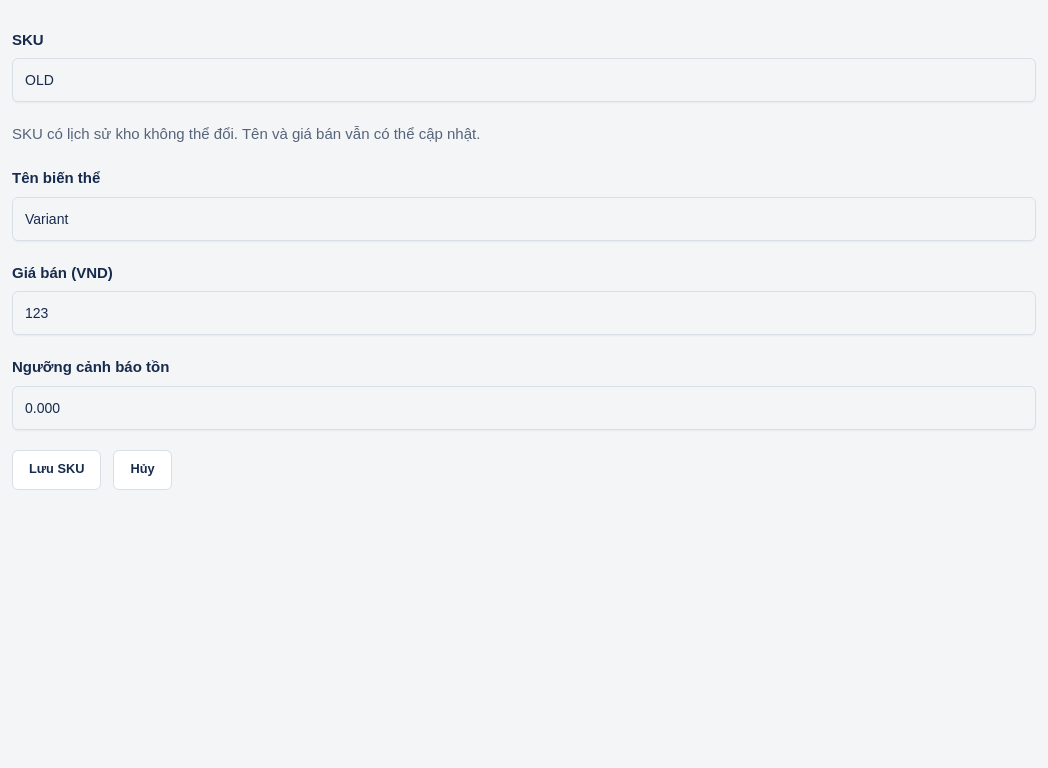
Test: explains immutable SKU errors and retains the attempted edit
Replace the text in the field labelled "SKU" with "NEW" at (524, 80), box 12,58 -> 1036,102
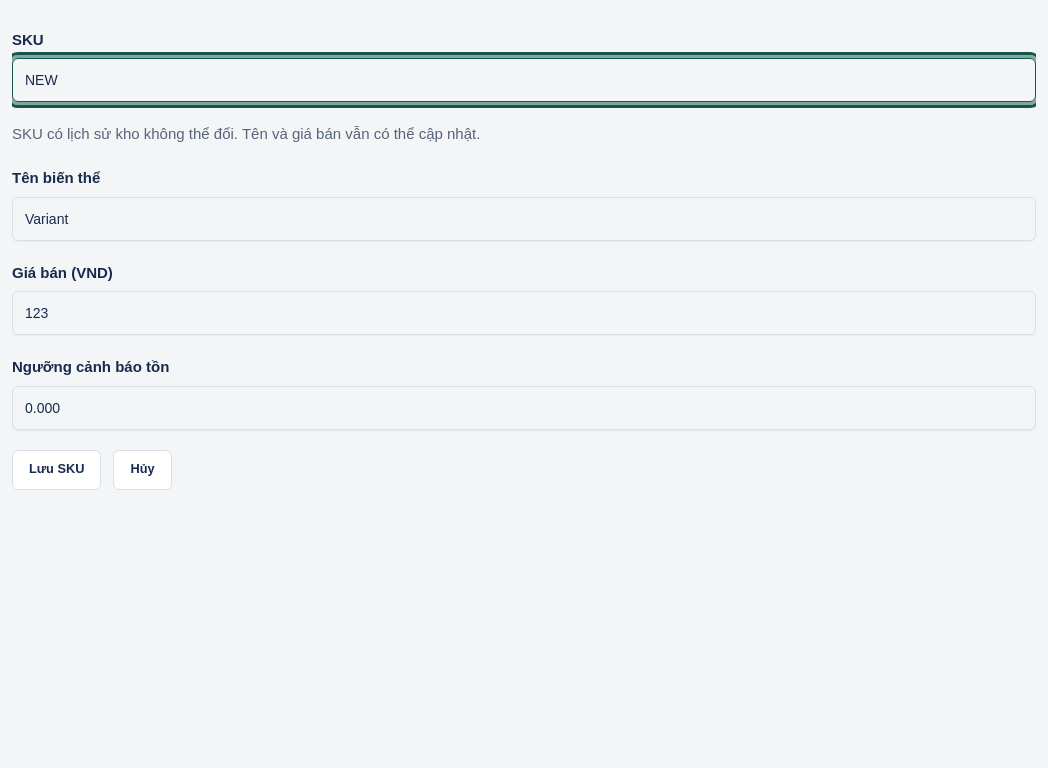
Click the button "Lưu SKU" at (57, 470), box 12,450 -> 102,490
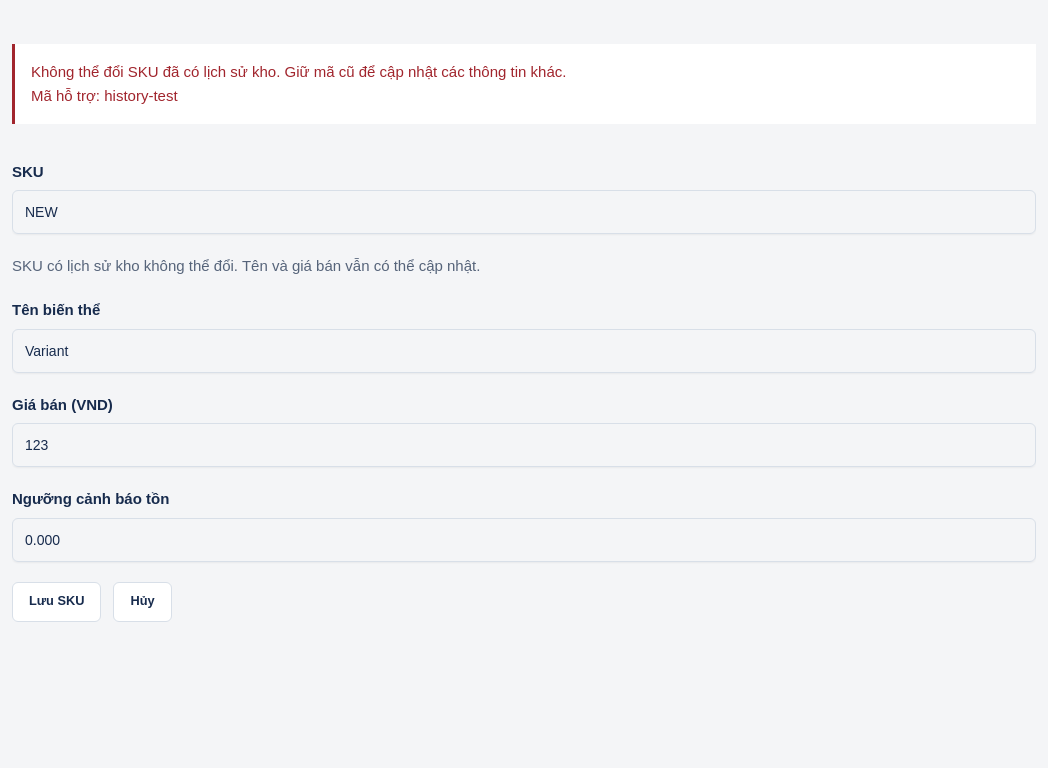
Expected: the message shows "Không thể đổi SKU đã có lịch sử kho", 31,63 -> 566,80
